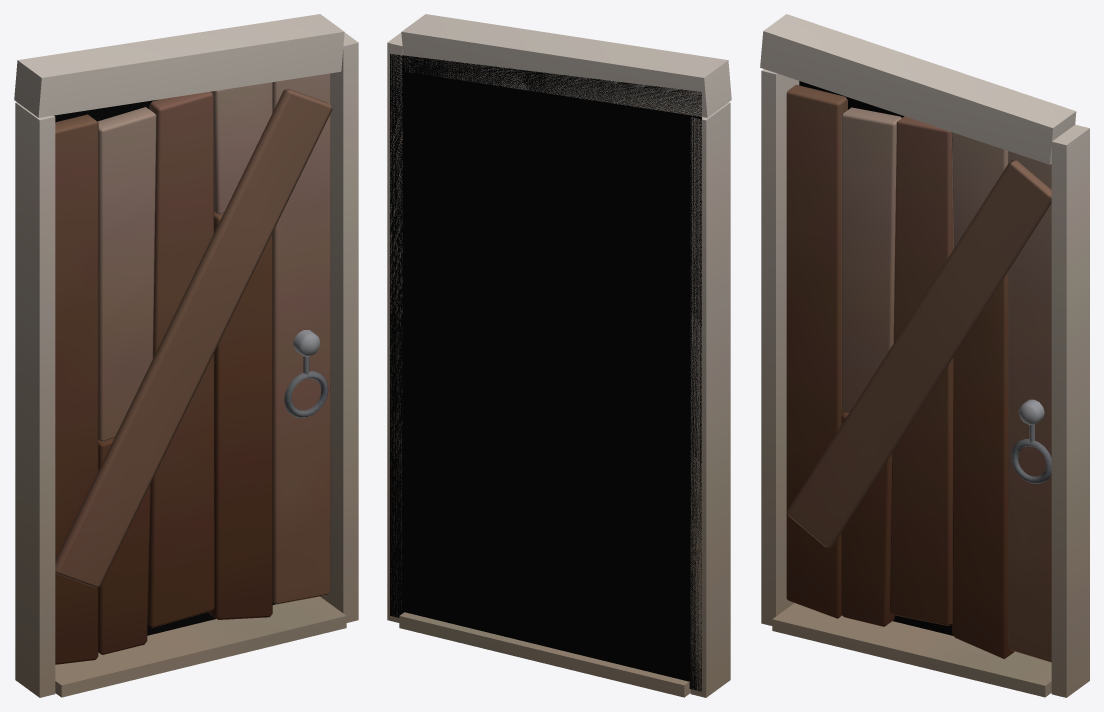
Rendered from M_WoodenDoor_01.fbx.
3 renders of one model, left to right at view 1: azimuth 30°, elevation 25°; view 2: azimuth 150°, elevation 25°; view 3: azimuth 330°, elevation 25°, orthographic. The views are drawn at different scales.
Visible parts, largest first — view 1: M_WoodenDoor_01; view 2: M_WoodenDoor_01; view 3: M_WoodenDoor_01.
Boxes of the visible parts, bbox=[...] form: M_WoodenDoor_01: bbox=[14, 14, 358, 697]; M_WoodenDoor_01: bbox=[387, 14, 731, 697]; M_WoodenDoor_01: bbox=[760, 14, 1089, 697].
Size of the model in its own units: 160 by 296 by 29.83.
Materials: 1 (1 with a texture image).
